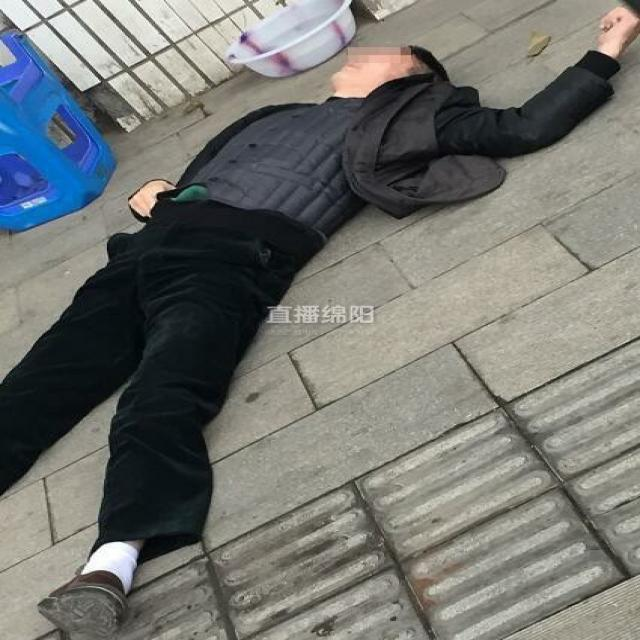down: (0, 2, 638, 636)
